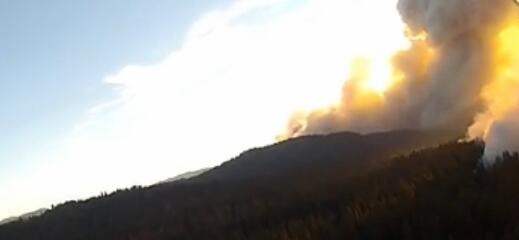yanwu: (275, 0, 519, 143)
